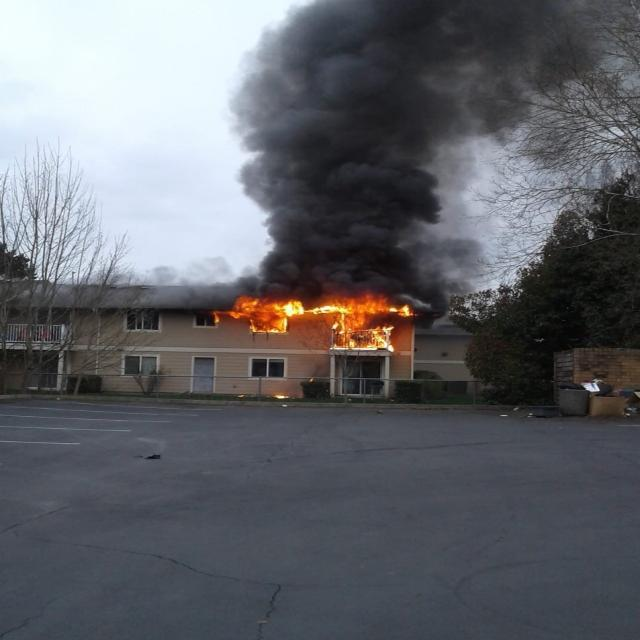Fire: (230, 296, 305, 334), (330, 313, 394, 353), (305, 289, 388, 313), (212, 310, 243, 324), (388, 302, 413, 317), (274, 394, 290, 399), (237, 394, 245, 398), (310, 378, 314, 382)
Smoke: (242, 0, 462, 295), (462, 0, 610, 138)
